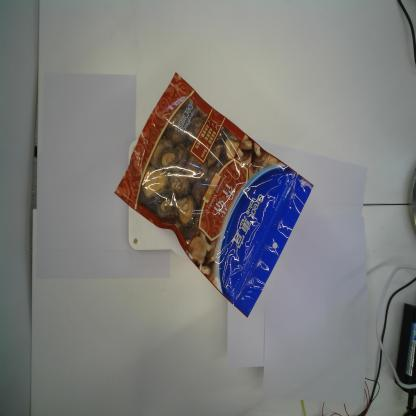Dried Food: (112, 72, 314, 318)
